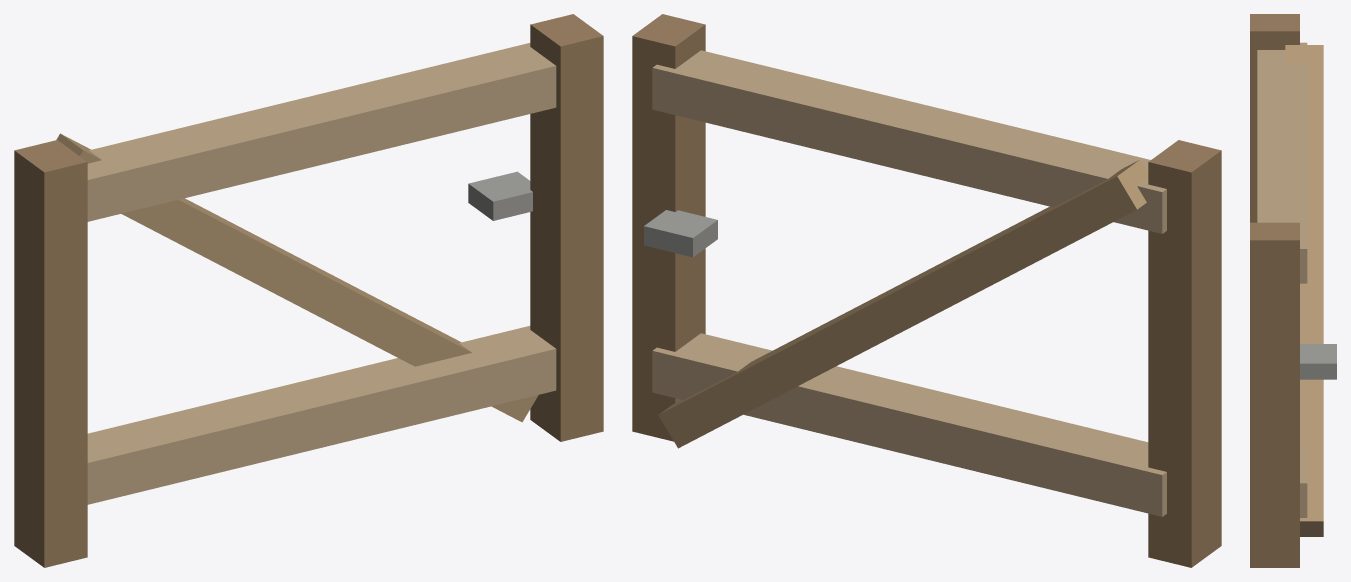
3 renders of one model, left to right at view 1: azimuth 30°, elevation 25°; view 2: azimuth 150°, elevation 25°; view 3: azimuth 270°, elevation 25°, orthographic. The views are drawn at different scales.
Visible parts, largest first — view 1: fence_gate; view 2: fence_gate; view 3: fence_gate.
Part boxes in pixels (box(x1,y1,x2,y2)): fence_gate: box(14, 14, 603, 567); fence_gate: box(632, 14, 1221, 567); fence_gate: box(1250, 14, 1336, 567).
Bounding box in the file's own units: 1.82 × 1.23 × 0.295.
